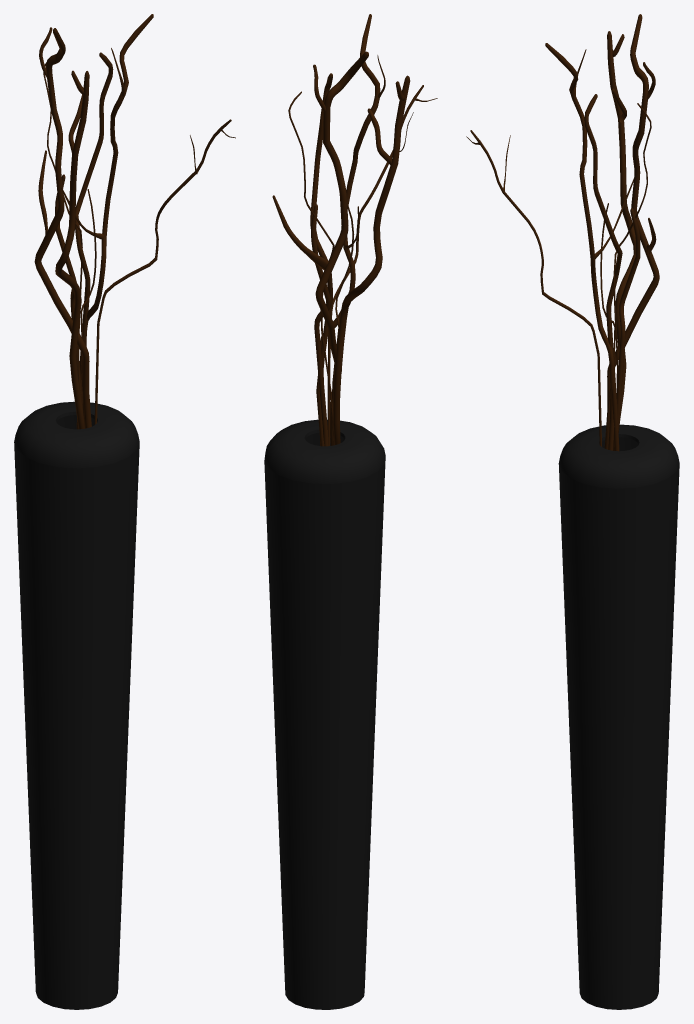
Rendered from Vase2-living.FBX.
The picture shows the model from 3 angles, left to right: view 1: azimuth 90°, elevation 25°; view 2: azimuth 150°, elevation 25°; view 3: azimuth 270°, elevation 25°; orthographic projection. The views are drawn at different scales.
Visible parts, largest first — view 1: putong025, putong026; view 2: putong025, putong026; view 3: putong025, putong026.
Part boxes in pixels (bbox=[...]): putong025: bbox=[14, 401, 139, 1009]; putong026: bbox=[34, 14, 235, 429]; putong025: bbox=[264, 419, 385, 1009]; putong026: bbox=[272, 14, 437, 446]; putong025: bbox=[558, 424, 679, 1009]; putong026: bbox=[466, 14, 659, 451].
Bounding box in the file's own units: 23.23 × 161 × 32.6.
